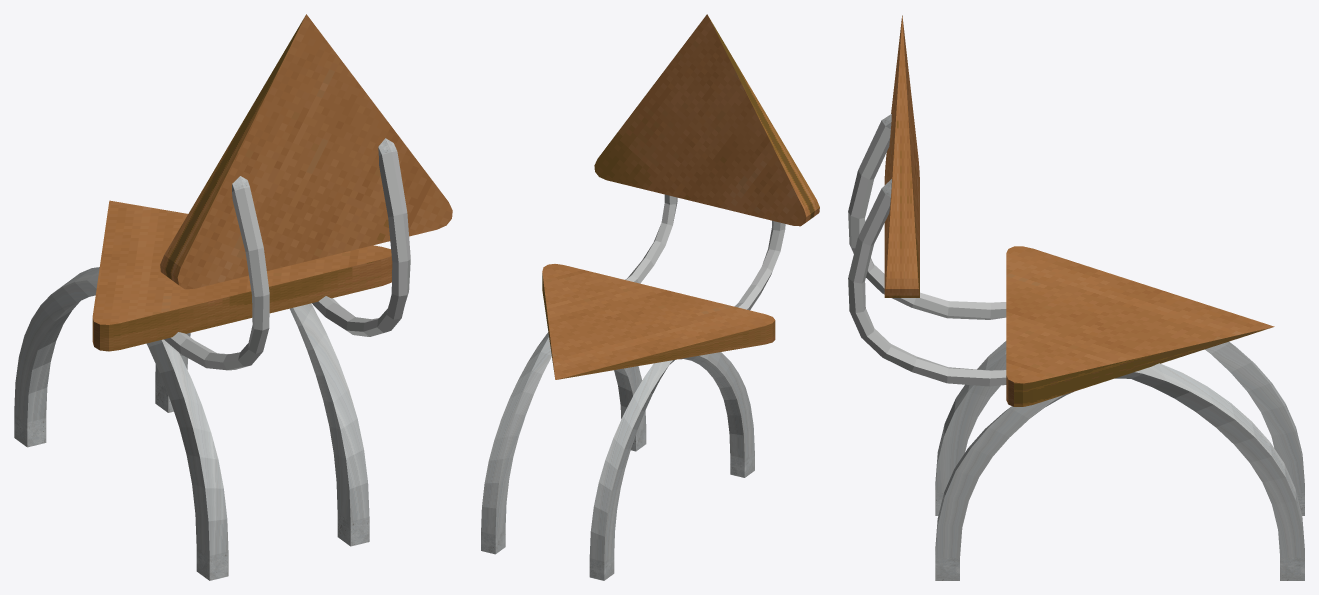
File: Sedia_Triangolo_2.fbx
The picture shows the model from 3 angles, left to right: view 1: azimuth 30°, elevation 25°; view 2: azimuth 150°, elevation 25°; view 3: azimuth 270°, elevation 25°; orthographic projection. The views are drawn at different scales.
Visible parts, largest first — view 1: Cube.070; view 2: Cube.070; view 3: Cube.070.
Boxes of the visible parts, <box> form: Cube.070: <box>14,14,452,580</box>; Cube.070: <box>481,14,819,580</box>; Cube.070: <box>848,15,1304,580</box>.
Bounding box in the file's own units: 0.758 × 1.37 × 1.07.
Materials: 2 (2 with a texture image).
